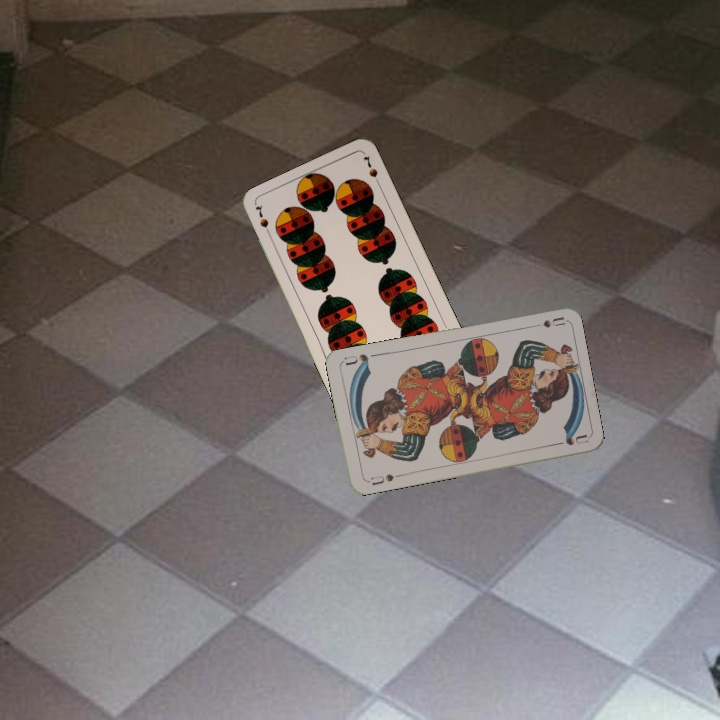S7: (251, 201, 274, 240)
SU: (362, 470, 403, 488), (525, 313, 566, 331)
